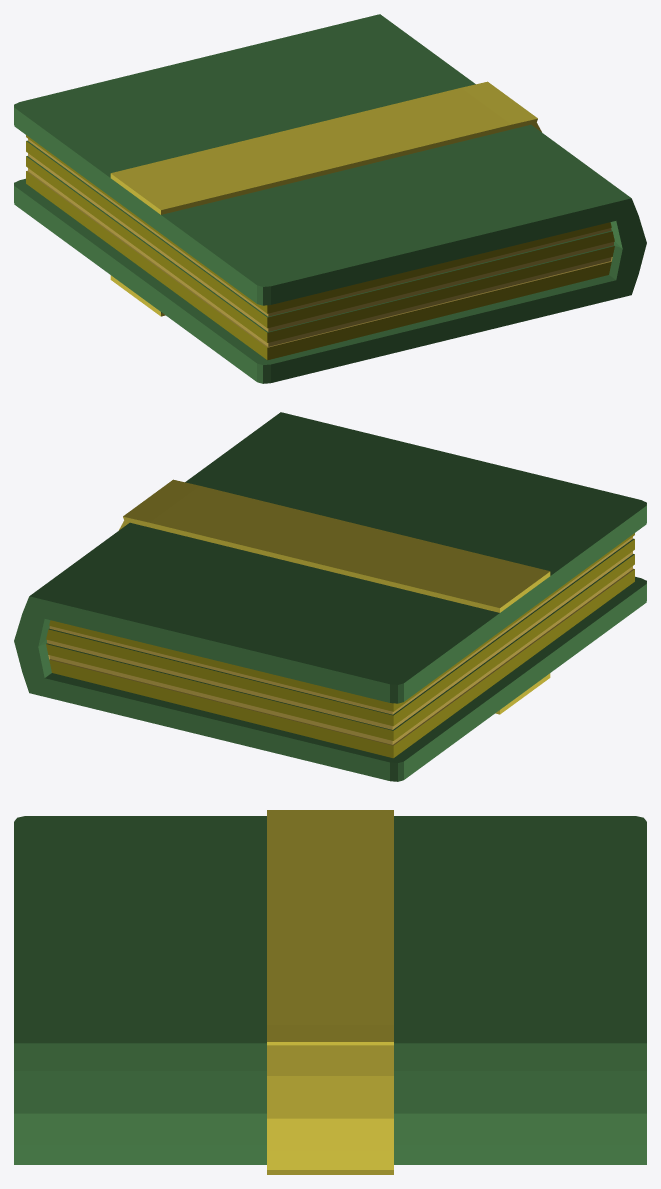
Rendered from Notebook 5.fbx.
3 renders of one model, top to bottom at view 1: azimuth 30°, elevation 25°; view 2: azimuth 150°, elevation 25°; view 3: azimuth 270°, elevation 25°, orthographic. The views are drawn at different scales.
Parts seen in each view (by area): view 1: Node 0; view 2: Node 0; view 3: Node 0.
Boxes of the visible parts, x1,y1,x2,y2 form: Node 0: [14, 14, 646, 383]; Node 0: [14, 412, 646, 781]; Node 0: [14, 810, 646, 1174].
Size of the model in its own units: 0.2481 by 0.0579 by 0.224.
